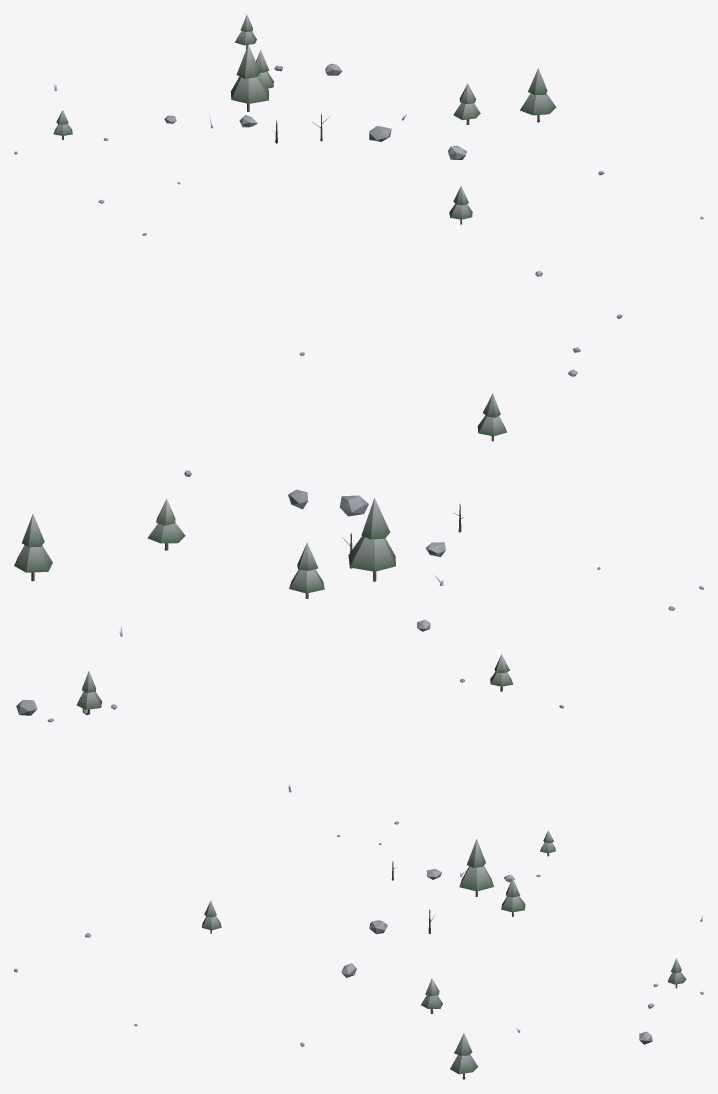
File: frost_land_scatter_c21_12_lod1.glb
3 renders of one model, top to bottom at view 1: azimuth 30°, elevation 25°; view 2: azimuth 150°, elevation 25°; view 3: azimuth 270°, elevation 25°, orthographic. The views are drawn at different scales.
Visible parts, largest first — view 1: frost_land_scatter_c21_12_lod1; view 2: frost_land_scatter_c21_12_lod1; view 3: frost_land_scatter_c21_12_lod1.
Boxes of the visible parts, x1,y1,x2,y2 form: frost_land_scatter_c21_12_lod1: [14, 14, 703, 318]; frost_land_scatter_c21_12_lod1: [14, 347, 703, 792]; frost_land_scatter_c21_12_lod1: [14, 821, 703, 1079].
Size of the model in its own units: 121 by 34.79 by 170.
